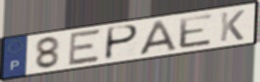8: (34, 35, 63, 70)
A: (138, 19, 178, 57)
E: (67, 27, 103, 67), (178, 12, 215, 50)
K: (218, 9, 247, 43)
P: (103, 24, 141, 62)
